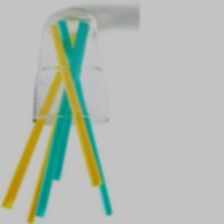drinking_straw: (47, 20, 103, 191)
glass: (28, 5, 112, 127)
